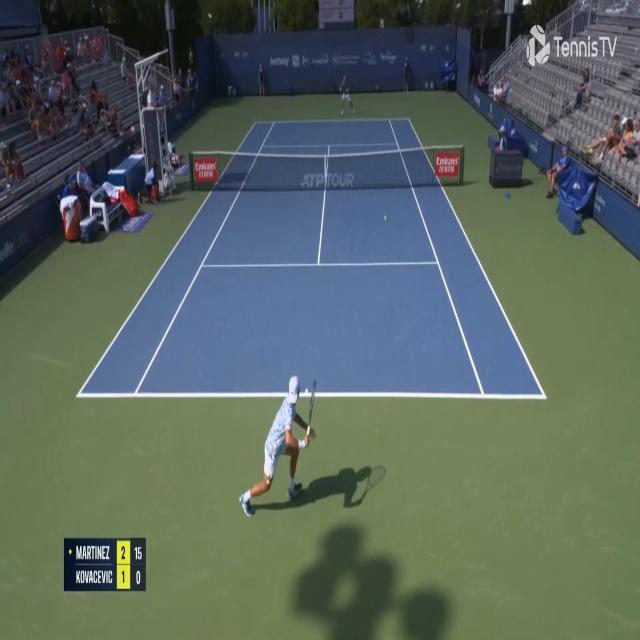tennis-player: (240, 370, 318, 520), (337, 74, 355, 117)
